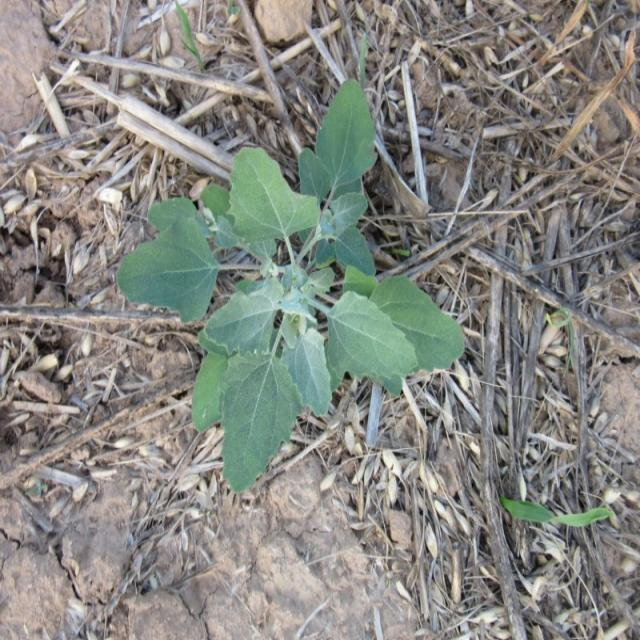ca: (128, 84, 467, 423)
